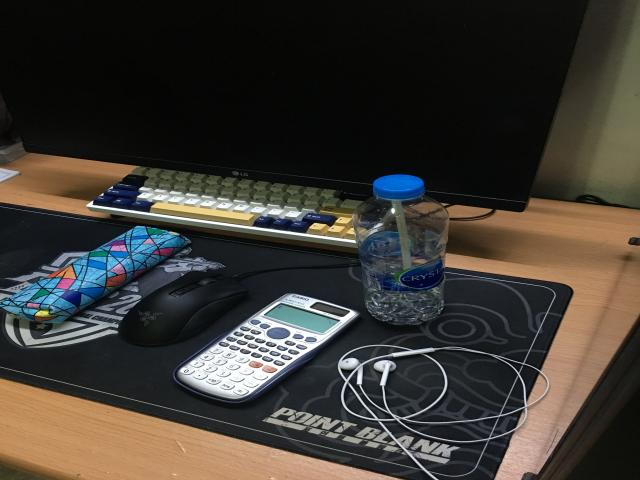Mouse: (118, 271, 248, 346)
bottle: (353, 174, 448, 325)
wire: (338, 344, 547, 480)
